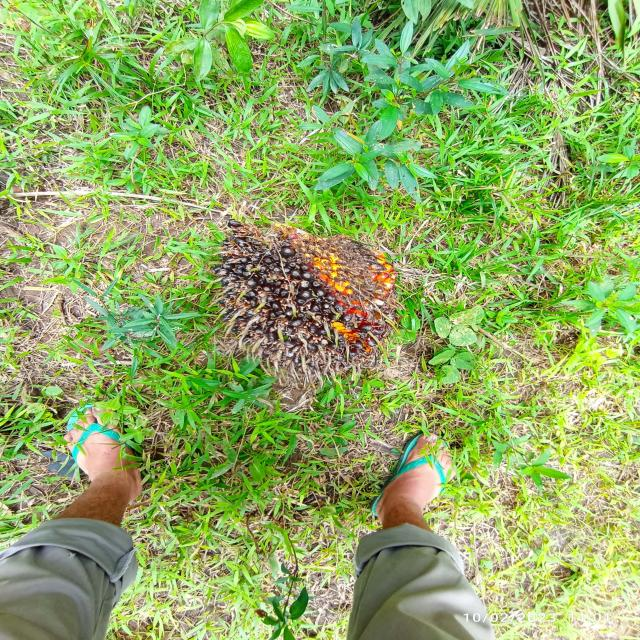fraksi 00: (146, 199, 451, 408)
